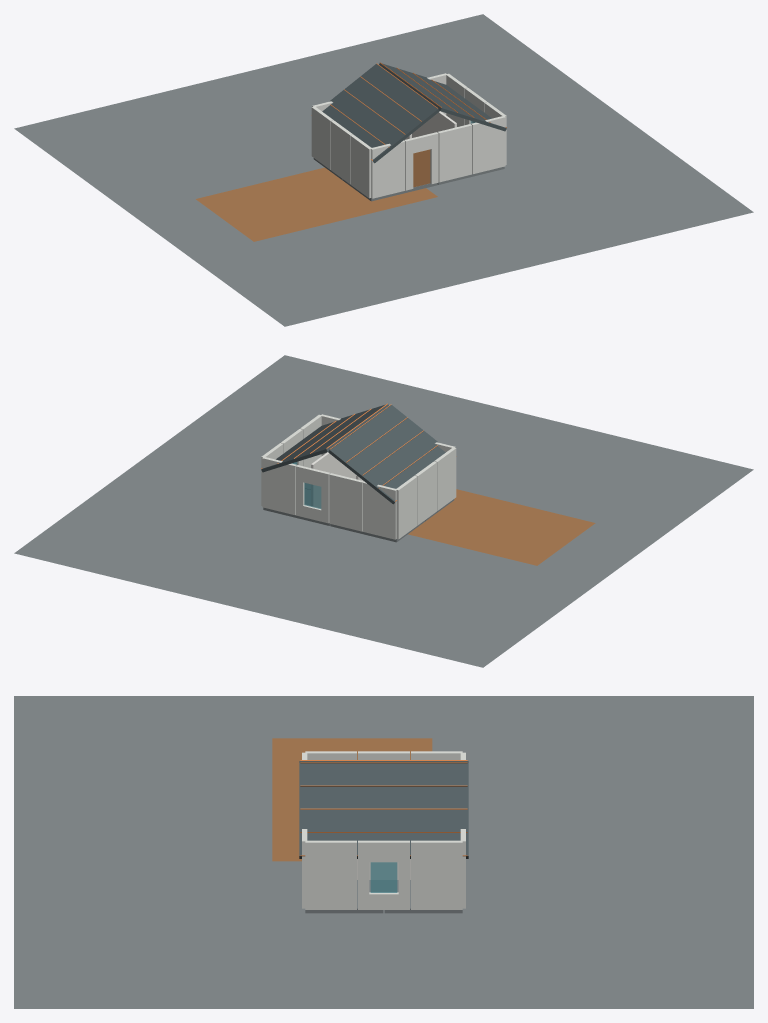
Rendered from house.glb.
The picture shows the model from 3 angles, top to bottom: view 1: azimuth 30°, elevation 25°; view 2: azimuth 150°, elevation 25°; view 3: azimuth 270°, elevation 25°; orthographic projection. The views are drawn at different scales.
Parts seen in each view (by area): view 1: construction_site, material_yard, module__roof_0_0__body, module__roof_1_0__body, module__south_01__body, module__south_03__body, module__south_00__body, module__roof_0_1__body, module__west_00__body, module__west_01__body, module__west_02__body, module__roof_1_1__body (+2 smaller); view 2: construction_site, material_yard, module__roof_1_0__body, module__roof_0_0__body, module__north_01__body, module__north_00__body, module__north_03__body, module__roof_1_1__body, module__west_02__body, module__west_00__body, module__west_01__body, module__roof_0_1__body (+1 smaller); view 3: construction_site, module__roof_0_1__body, module__roof_1_1__body, material_yard, module__east_00__body, module__east_02__body, module__east_01__window, module__east_01__jamb_-1, module__east_01, module__east_01__lintel, module__roof_0_1, module__roof_1_1 (+2 smaller).
Boxes of the visible parts, x1,y1,x2,y2 form: construction_site: [14, 14, 753, 326]; material_yard: [196, 167, 437, 241]; module__roof_0_0__body: [352, 85, 439, 163]; module__roof_1_0__body: [322, 64, 404, 133]; module__south_01__body: [437, 124, 472, 182]; module__south_03__body: [371, 140, 405, 198]; module__south_00__body: [471, 116, 505, 173]; module__roof_0_1__body: [408, 84, 506, 131]; module__west_00__body: [350, 134, 372, 198]; module__west_01__body: [331, 120, 352, 183]; module__west_02__body: [311, 106, 333, 169]; module__roof_1_1__body: [379, 63, 471, 104]; construction_site: [14, 355, 753, 667]; material_yard: [408, 489, 595, 565]; module__roof_1_0__body: [328, 426, 415, 504]; module__roof_0_0__body: [363, 405, 445, 474]; module__north_01__body: [329, 473, 363, 531]; module__north_00__body: [362, 481, 396, 539]; module__north_03__body: [262, 457, 296, 514]; module__roof_1_1__body: [261, 425, 359, 472]; module__west_02__body: [395, 475, 417, 539]; module__west_00__body: [434, 447, 456, 510]; module__west_01__body: [415, 461, 436, 524]; module__roof_0_1__body: [293, 404, 388, 446]; construction_site: [14, 696, 753, 1008]; module__roof_0_1__body: [299, 763, 389, 858]; module__roof_1_1__body: [378, 763, 468, 858]; material_yard: [272, 738, 432, 861]; module__east_00__body: [411, 840, 462, 909]; module__east_02__body: [305, 840, 356, 909]; module__east_01__window: [370, 862, 397, 892]; module__east_01__jamb_-1: [398, 840, 409, 909]; module__east_01: [358, 840, 369, 909]; module__east_01__lintel: [369, 840, 398, 862]; module__roof_0_1: [300, 762, 388, 856]; module__roof_1_1: [379, 762, 467, 856].
Size of the model in its own units: 28 by 4.51 by 28.
